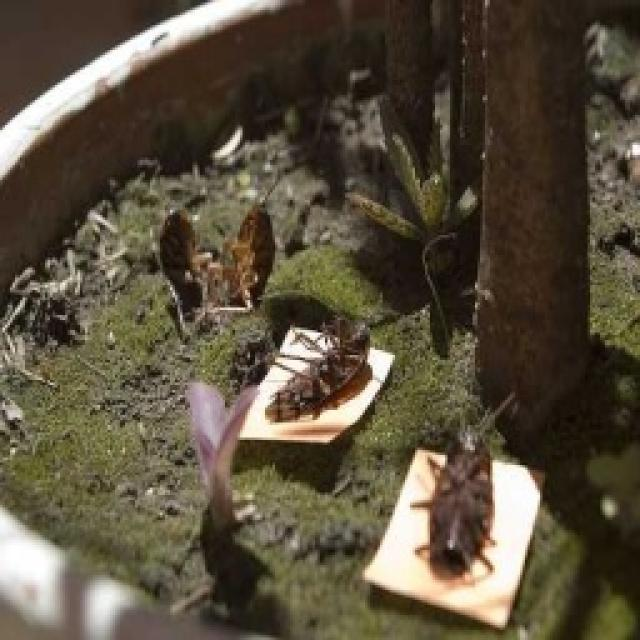cockroach: (250, 292, 429, 444), (435, 415, 511, 610), (210, 178, 301, 327), (150, 170, 209, 356)
